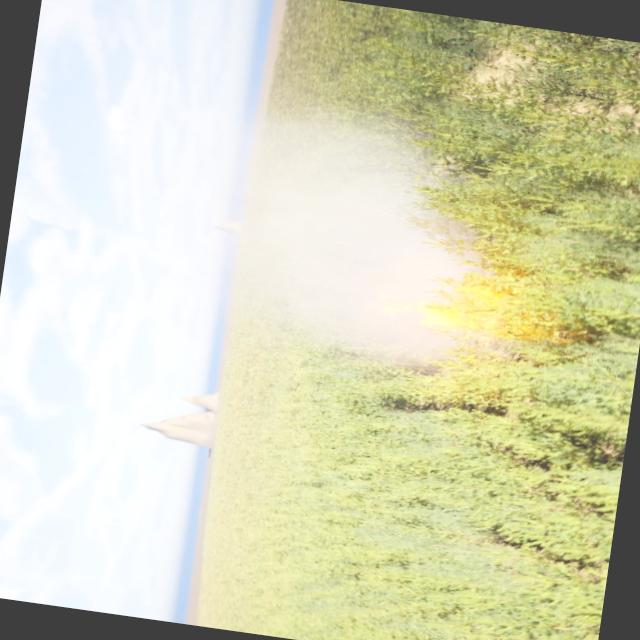fire: (359, 268, 521, 344)
smoke: (136, 93, 538, 384)
